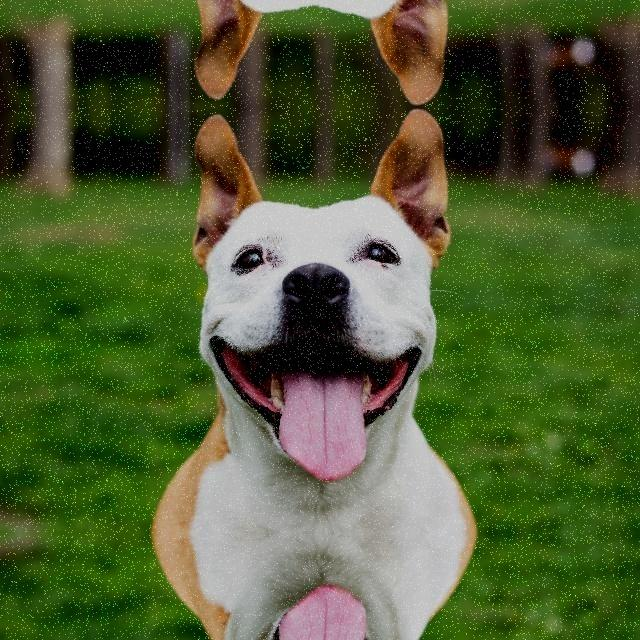dog: (136, 106, 490, 532), (136, 533, 490, 640), (136, 0, 490, 106)
